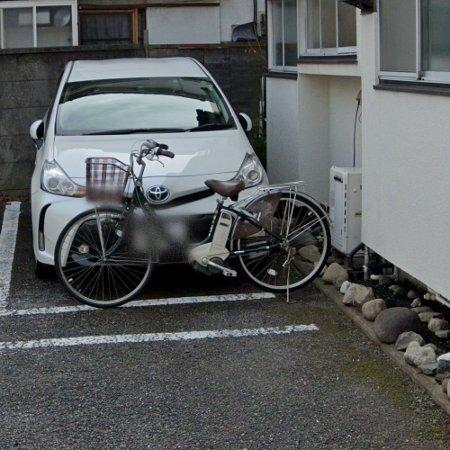bicycles: (55, 141, 331, 308)
